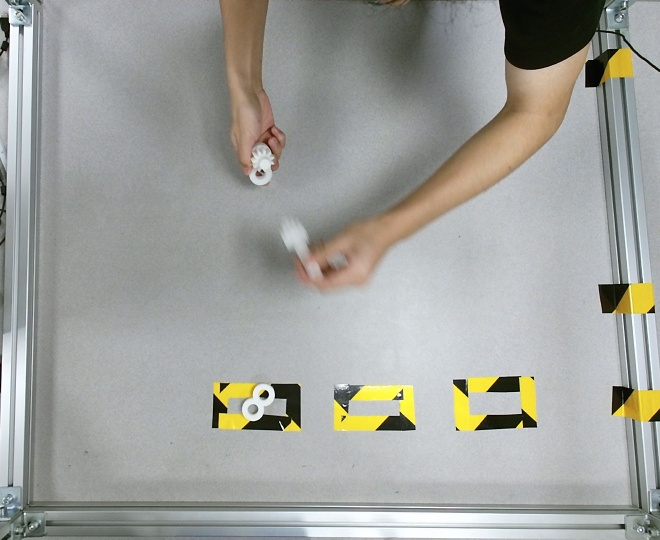stage_2: (248, 142, 273, 185)
